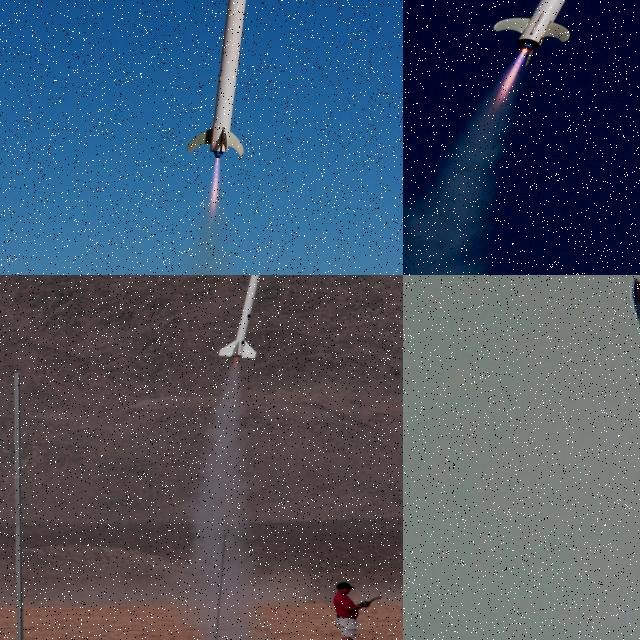Rocket: (185, 0, 251, 157), (493, 0, 640, 68), (218, 275, 268, 359)
